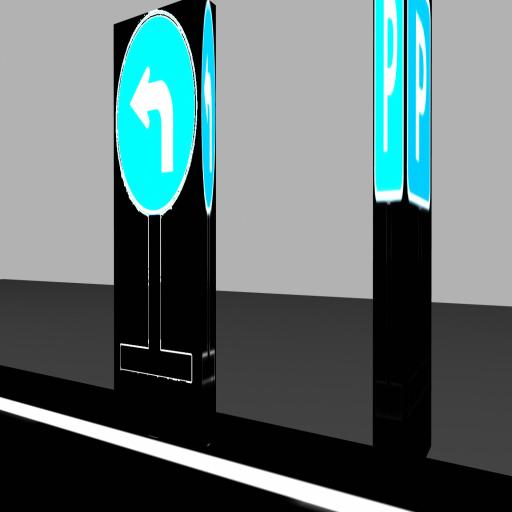Left Turn Sign: (116, 13, 196, 214), (201, 0, 216, 214)
Parking Allowed: (374, 0, 404, 202), (406, 0, 431, 210)
